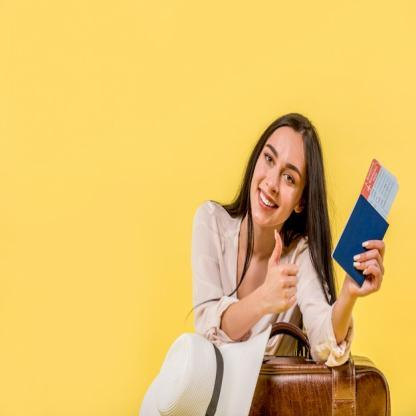thumb_up: (260, 225, 299, 316)
